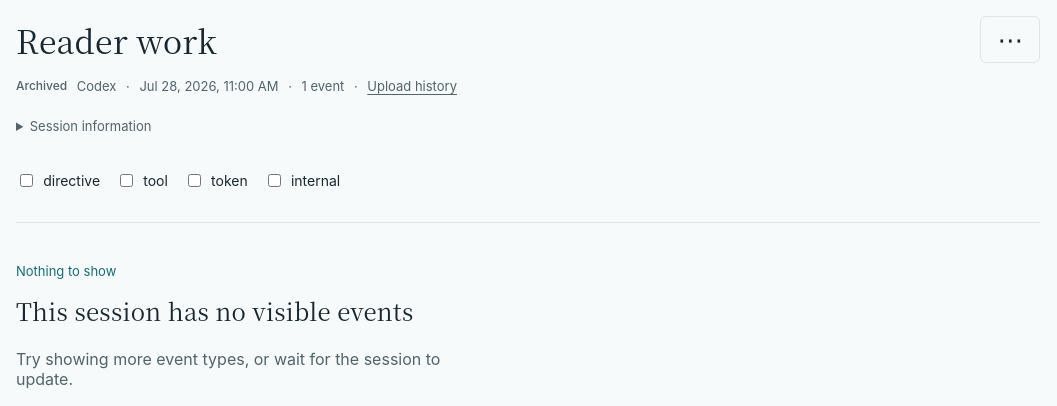
session reader items › toggles technical-event visibility for the current page
Click the checkbox labelled "internal" at coordinates (274, 180), box [268, 174, 281, 187]
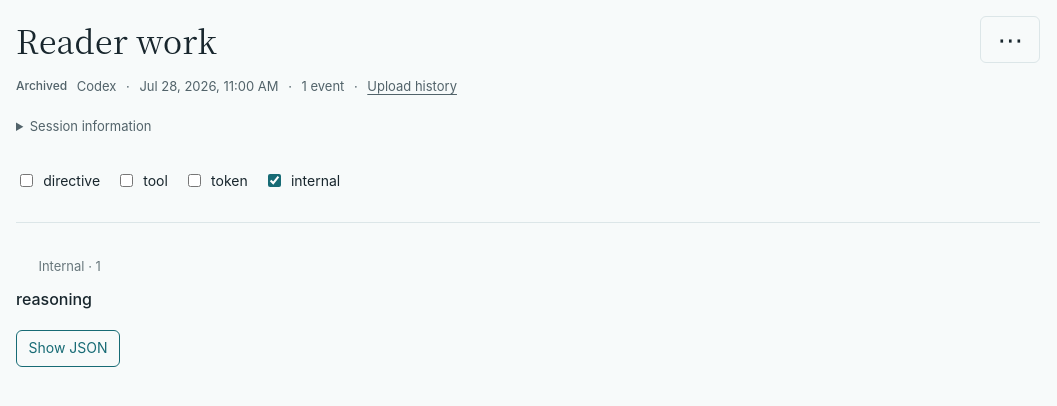
expect the text "reasoning" is shown: met, box [16, 290, 92, 310]
